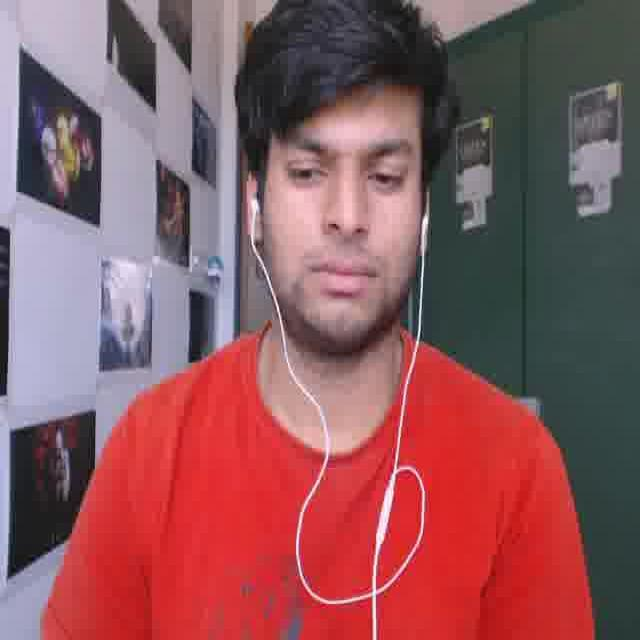Boredom: (257, 69, 419, 336)
